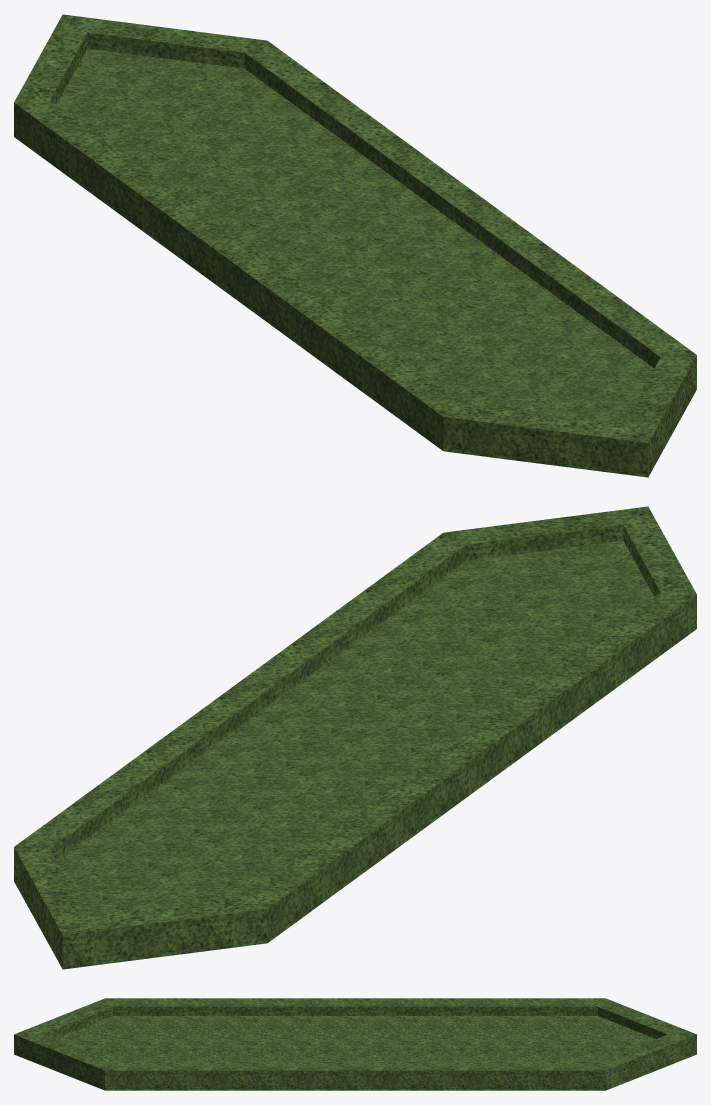
The model's file is SM_Morin_Aiuola_Bosso_LOD1.fbx.
3 views of the same model, one above another, from view 1: azimuth 30°, elevation 25°; view 2: azimuth 150°, elevation 25°; view 3: azimuth 270°, elevation 25° (orthographic). The views are drawn at different scales.
Parts seen in each view (by area): view 1: SM_Morin_Aiuola_Bosso_LOD1; view 2: SM_Morin_Aiuola_Bosso_LOD1; view 3: SM_Morin_Aiuola_Bosso_LOD1.
Boxes of the visible parts, <box> form: SM_Morin_Aiuola_Bosso_LOD1: <box>14,14,696,477</box>; SM_Morin_Aiuola_Bosso_LOD1: <box>14,506,696,969</box>; SM_Morin_Aiuola_Bosso_LOD1: <box>14,998,696,1090</box>.
Size of the model in its own units: 300 by 1200 by 39.
1 material, 1 textured.
